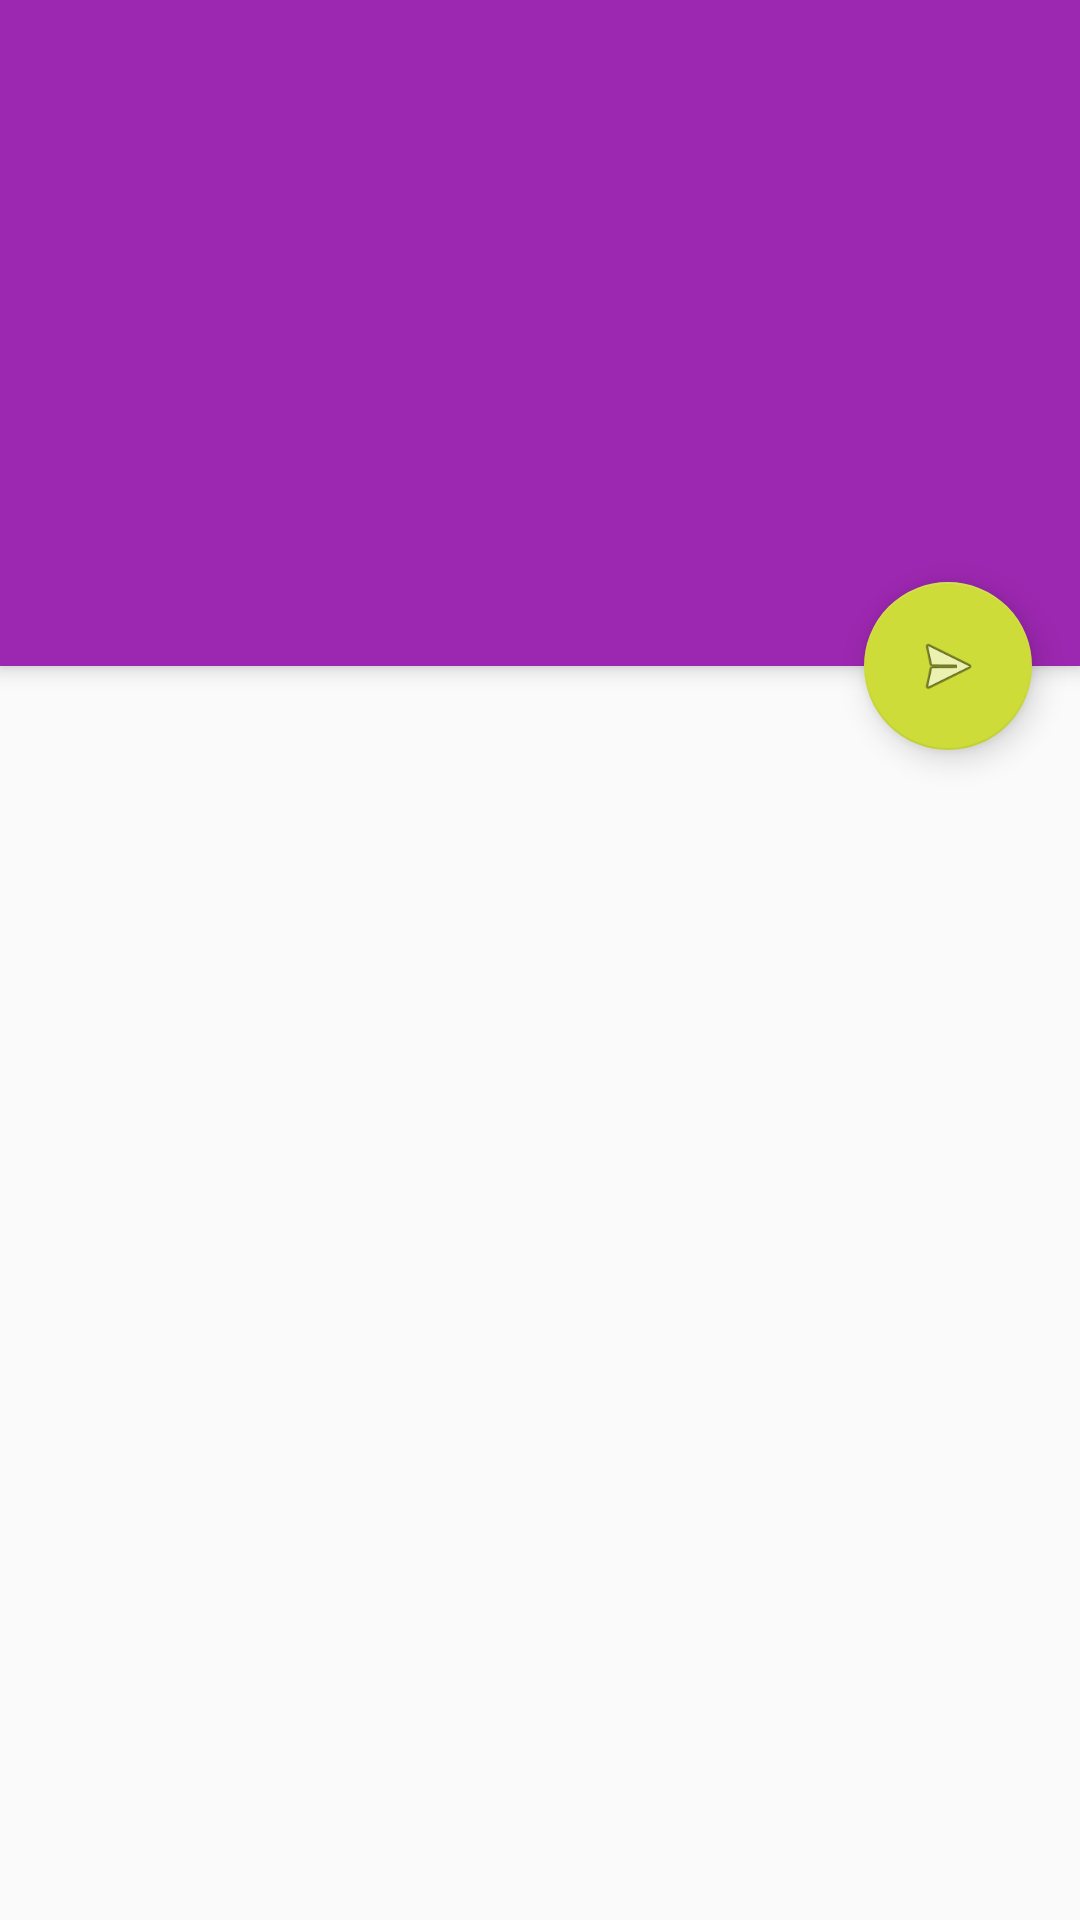

Point at icon controls on the screen. Image size 1080*1920, points as (x,y).
send: (948,666)
